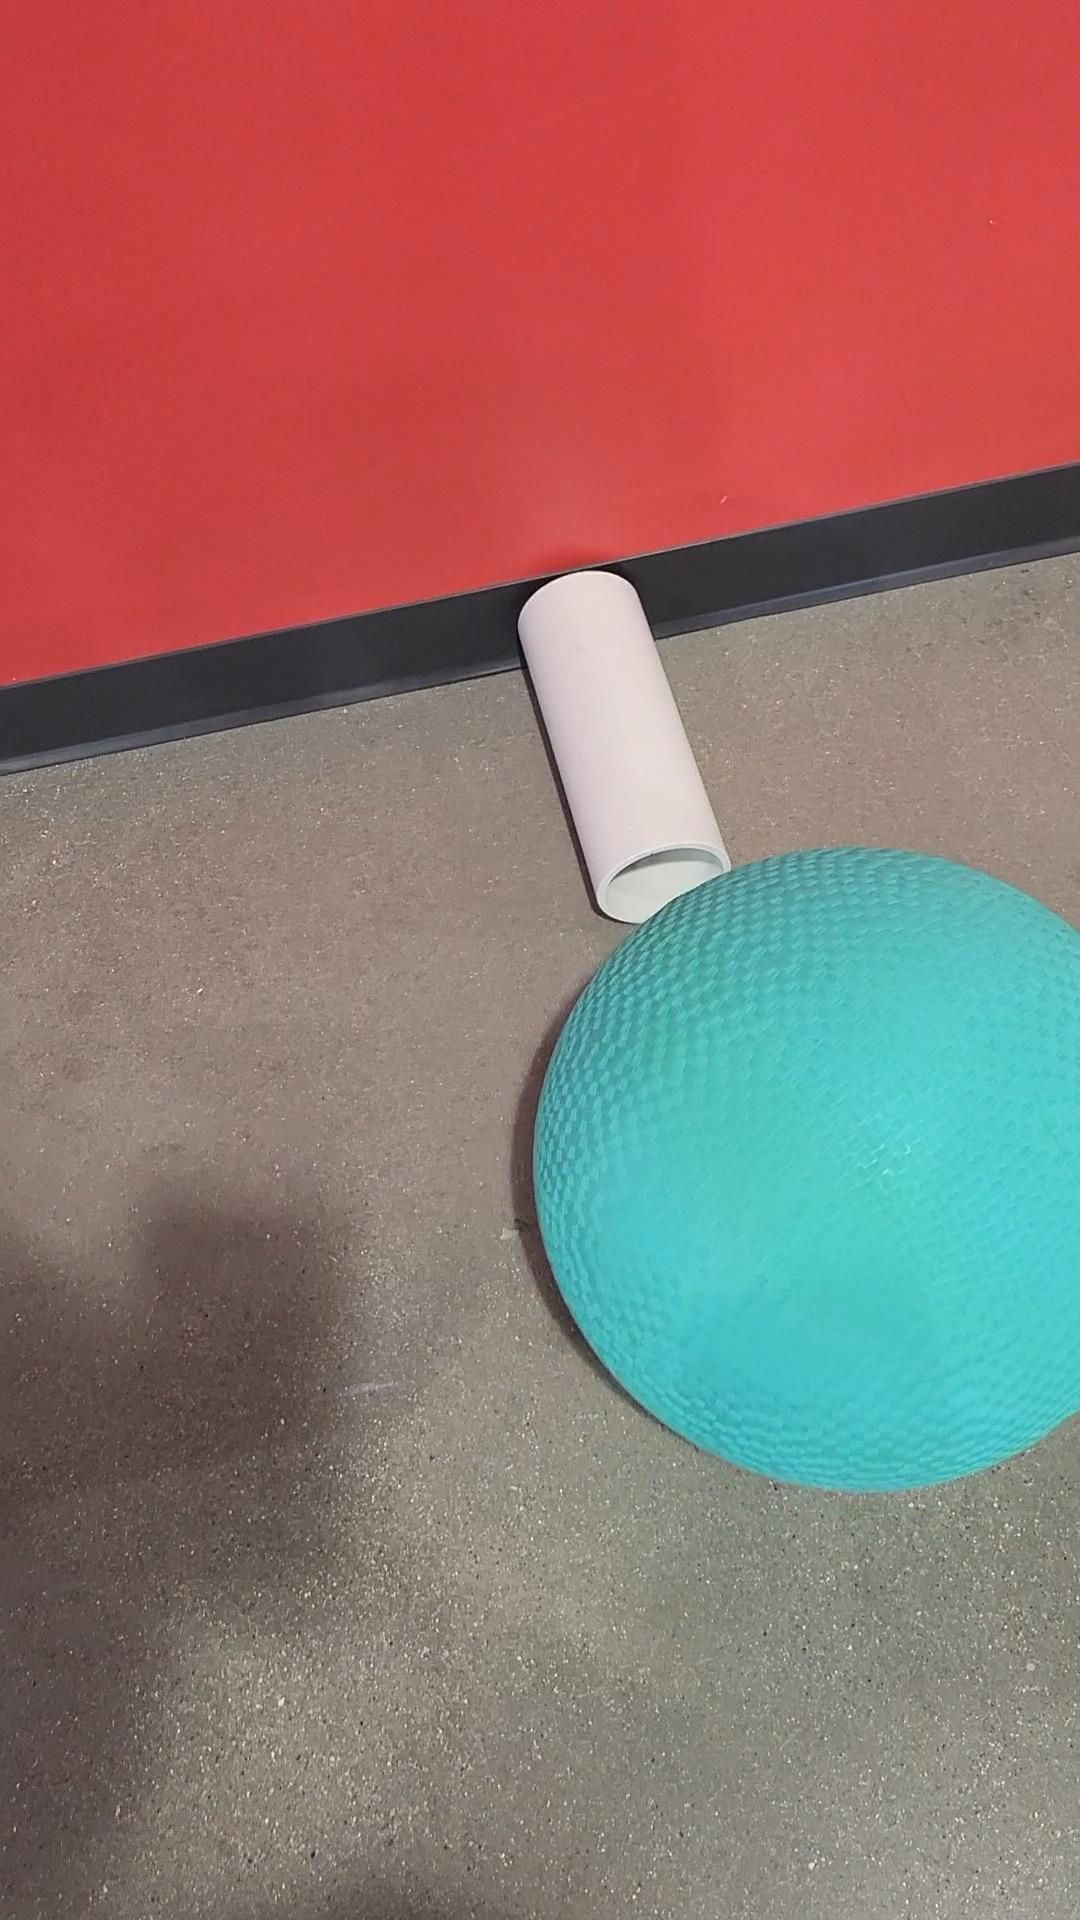algae: (526, 851, 1080, 1498)
coral: (516, 567, 740, 927)
